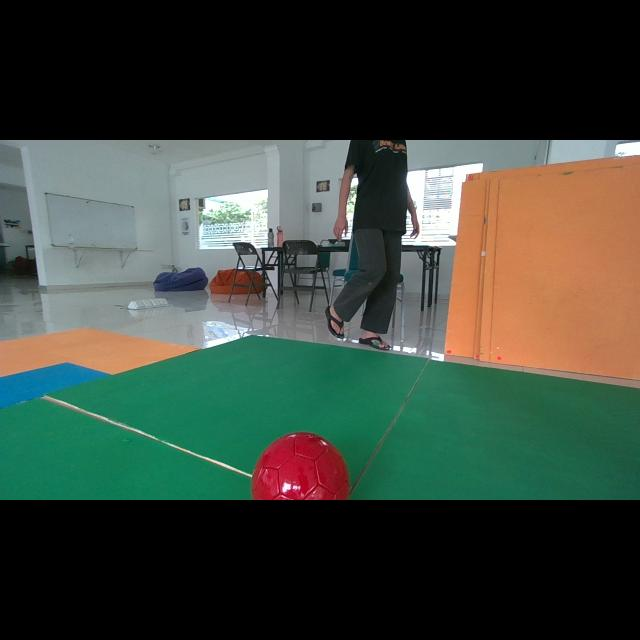R: (251, 432, 350, 500)
